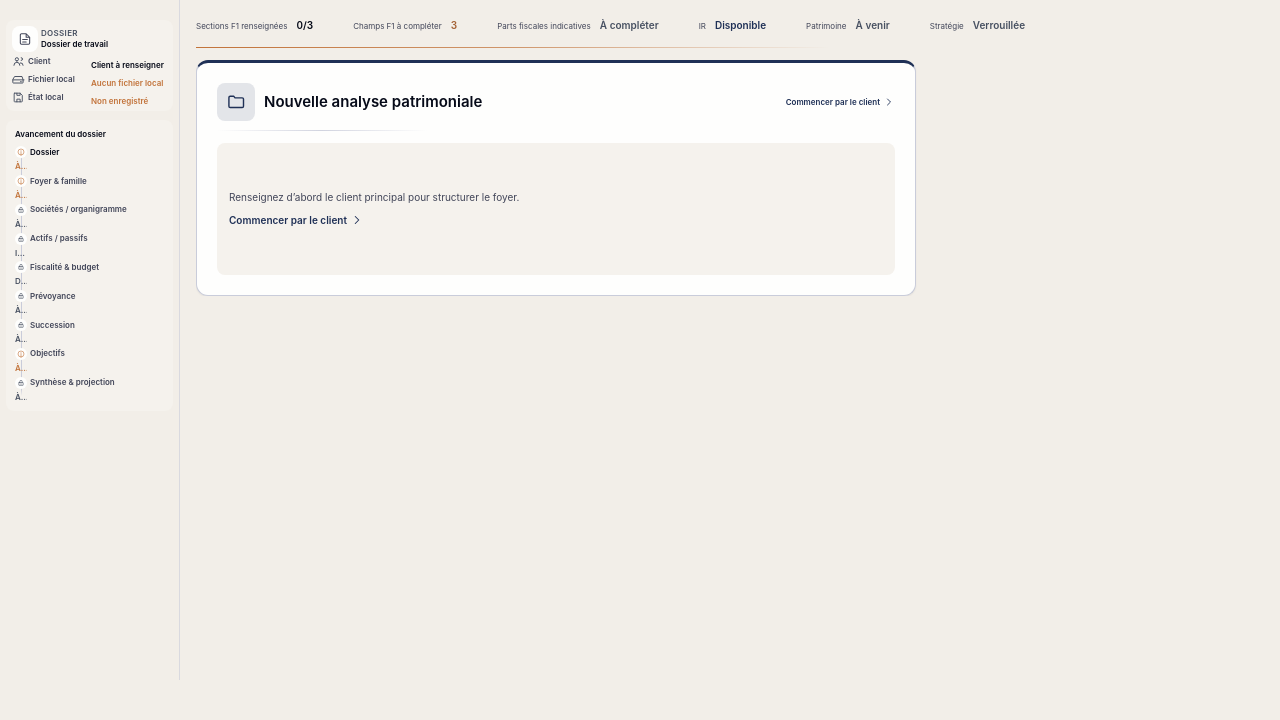
Test: FiscalitePage › présente les synthèses fiscalité et budget puis les 4 tuiles de saisie
Click the button "Fiscalité & budget Déclaratif" at (90, 274), box x1=15 y1=261 x2=164 y2=287
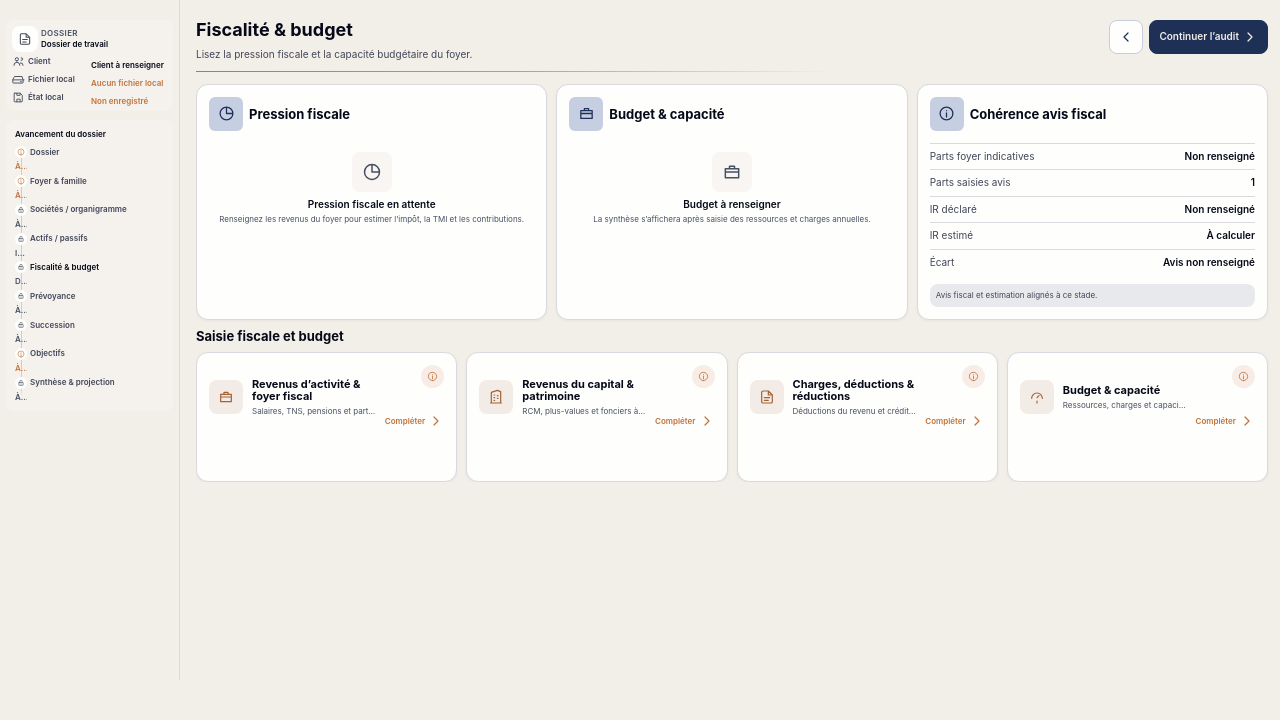
Result: the heading "Fiscalité & budget" is shown at x1=196 y1=19 x2=353 y2=40
Result: the heading "Pression fiscale" is shown at x1=249 y1=107 x2=350 y2=121
Result: the heading "Budget & capacité" in the row of "Cohérence avis fiscal" is shown at x1=609 y1=107 x2=725 y2=121
